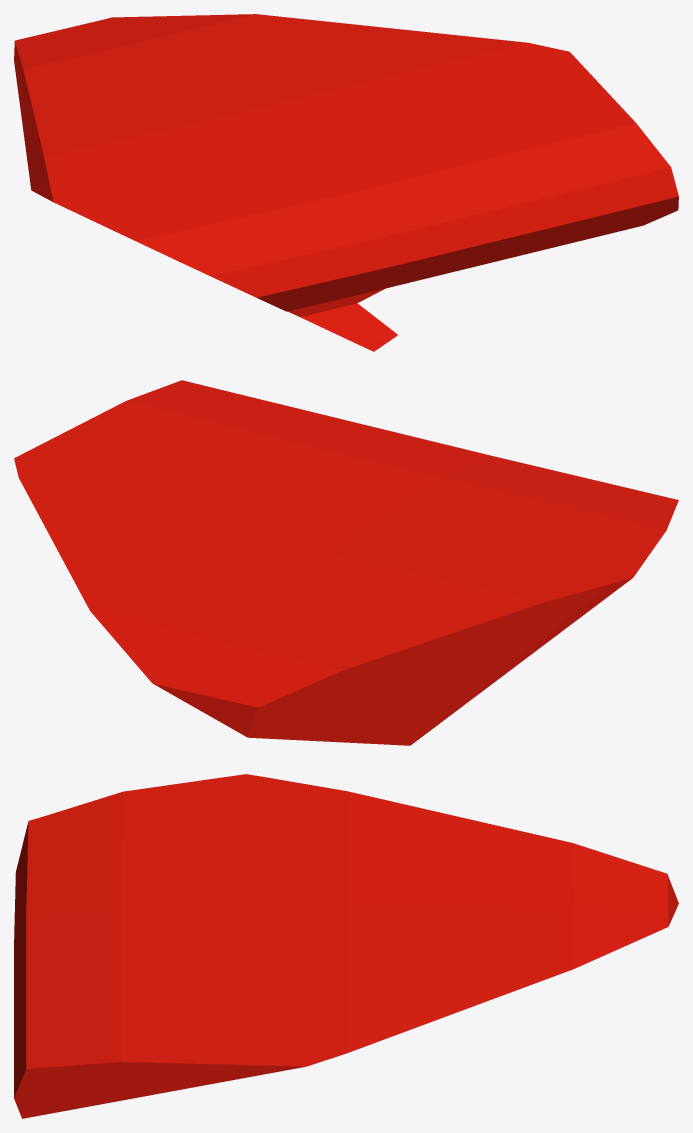
Rendered from SM_Fence1m_Half-Broken_01.022.fbx.
3 views of the same model, one above another, from view 1: azimuth 30°, elevation 25°; view 2: azimuth 150°, elevation 25°; view 3: azimuth 270°, elevation 25° (orthographic). The views are drawn at different scales.
Visible parts, largest first — view 1: SM_Fence1m_Half-Broken_01.022; view 2: SM_Fence1m_Half-Broken_01.022; view 3: SM_Fence1m_Half-Broken_01.022.
Boxes of the visible parts, x1=… form: SM_Fence1m_Half-Broken_01.022: x1=14, y1=14, x2=678, y2=351; SM_Fence1m_Half-Broken_01.022: x1=14, y1=380, x2=678, y2=745; SM_Fence1m_Half-Broken_01.022: x1=14, y1=774, x2=678, y2=1118.
Bounding box in the file's own units: 0.4375 × 0.1077 × 0.4235.
